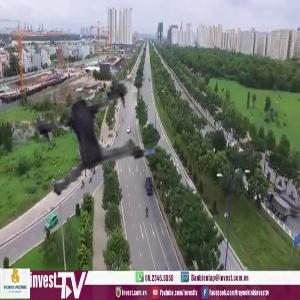drone: (6, 50, 165, 209)
